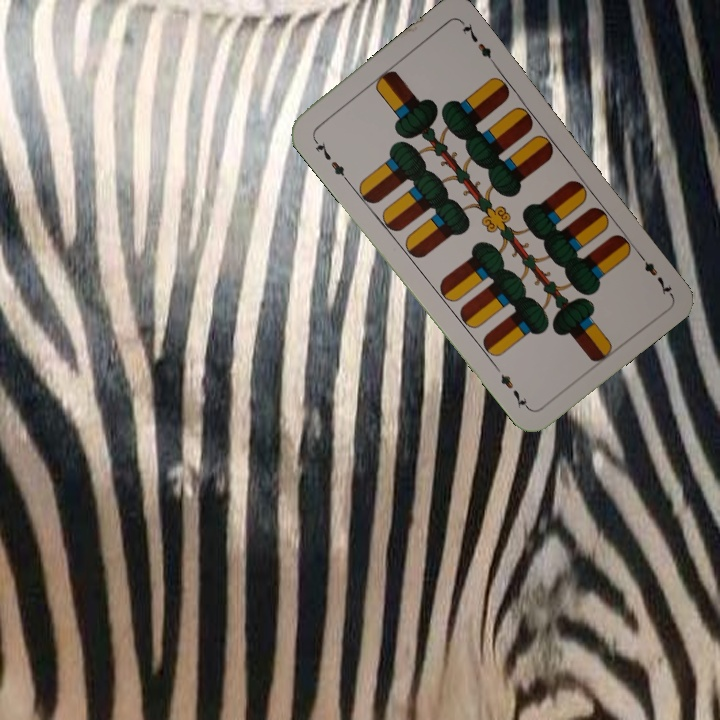E7: (632, 247, 675, 298), (309, 134, 351, 184)
